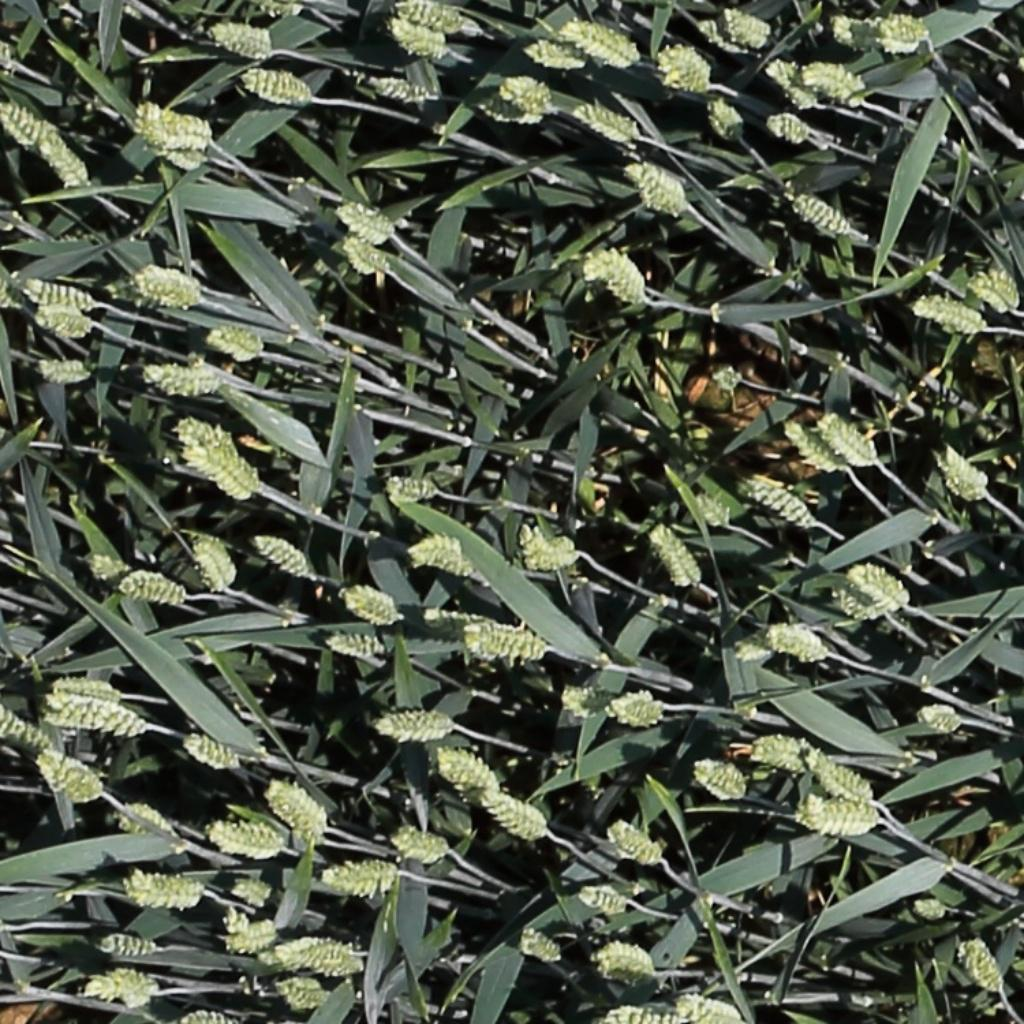0-0: (178, 442, 267, 503), (27, 120, 96, 198), (426, 745, 514, 803), (0, 90, 68, 162), (266, 771, 334, 839), (306, 857, 416, 899), (254, 936, 366, 977), (112, 866, 214, 911), (581, 244, 652, 308), (787, 792, 883, 839), (126, 260, 210, 313), (791, 58, 873, 112), (555, 20, 640, 72), (400, 530, 482, 582), (644, 520, 703, 592), (801, 749, 872, 808), (650, 37, 721, 95), (233, 63, 322, 109), (834, 15, 933, 56), (738, 477, 816, 528), (361, 705, 463, 744), (621, 159, 688, 218), (40, 697, 143, 735), (132, 121, 205, 174), (134, 101, 214, 149), (418, 604, 524, 640), (570, 102, 647, 151), (201, 816, 286, 859), (954, 932, 1008, 999), (79, 965, 161, 1009), (934, 442, 991, 505), (134, 361, 229, 398), (719, 628, 821, 662), (554, 679, 645, 717), (201, 19, 281, 62), (35, 750, 101, 802), (816, 412, 877, 468), (383, 17, 457, 63), (909, 295, 990, 337), (780, 419, 843, 473), (476, 791, 546, 839), (76, 544, 154, 587), (185, 531, 234, 599), (390, 0, 479, 35), (114, 569, 192, 608), (601, 689, 672, 731), (785, 189, 851, 234), (602, 816, 662, 865), (582, 942, 657, 981), (764, 58, 820, 110), (0, 707, 58, 756), (464, 625, 550, 658), (248, 533, 311, 578), (686, 755, 745, 801), (846, 565, 906, 610), (966, 265, 1020, 315), (749, 735, 826, 770), (266, 975, 338, 1012), (521, 39, 591, 77), (719, 5, 776, 51), (391, 825, 455, 865), (173, 417, 234, 458), (30, 304, 94, 343), (88, 931, 166, 963), (26, 355, 96, 390), (218, 919, 290, 953), (16, 277, 96, 307), (203, 327, 270, 362), (477, 94, 548, 127), (333, 200, 394, 238), (338, 587, 398, 625), (362, 74, 433, 106), (337, 232, 389, 275), (584, 1004, 695, 1024), (703, 90, 745, 141), (180, 735, 238, 771), (380, 473, 447, 504), (909, 700, 965, 735), (764, 630, 827, 660), (694, 17, 746, 53), (577, 885, 632, 919), (113, 806, 169, 838), (517, 925, 562, 963), (496, 76, 550, 107), (831, 587, 880, 621), (670, 998, 740, 1021), (690, 491, 731, 529), (322, 634, 386, 656), (764, 113, 812, 140), (50, 681, 117, 700), (228, 883, 271, 905), (249, 1, 296, 16), (910, 901, 947, 920)
